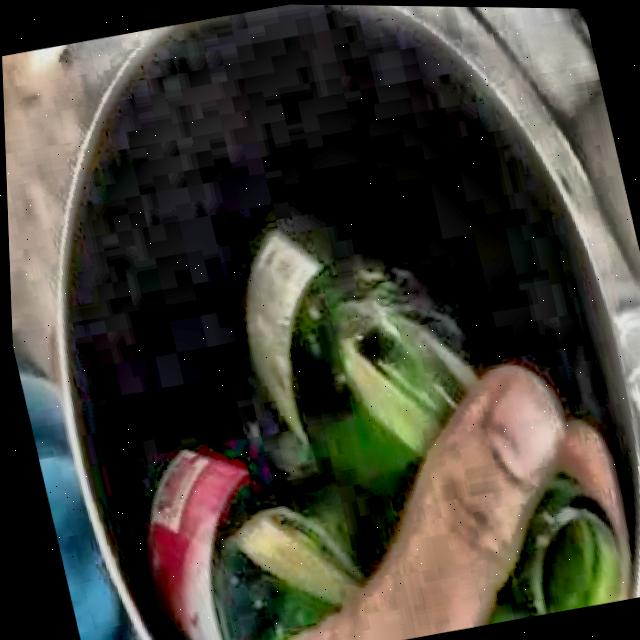glass: (144, 231, 470, 640), (479, 470, 619, 624)
